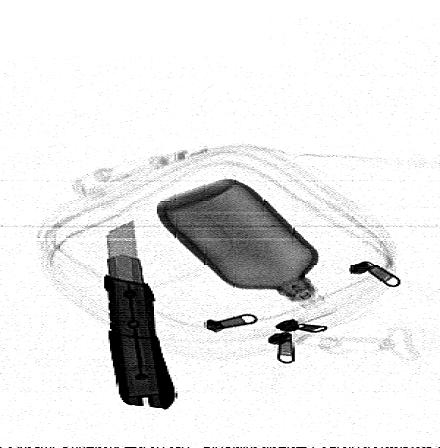Knife: (103, 218, 177, 410)
